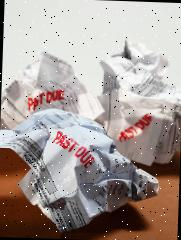paper: (0, 107, 161, 236), (90, 32, 181, 167), (0, 50, 108, 133)
